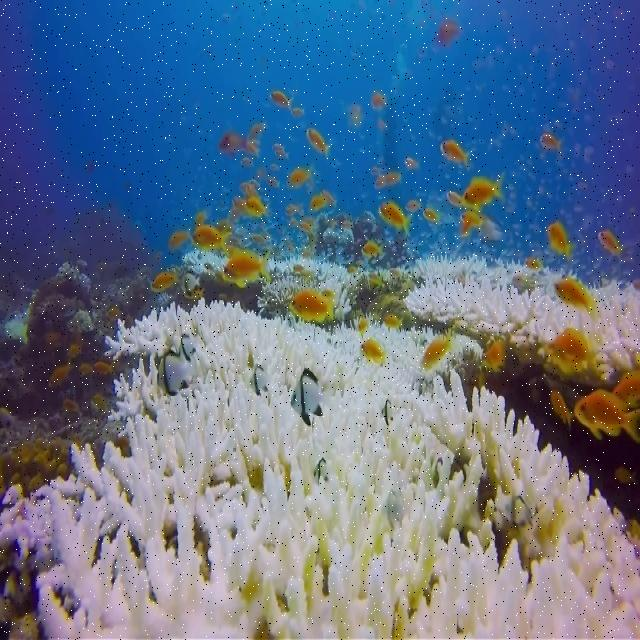fish: (576, 392, 639, 439), (290, 366, 328, 428), (546, 329, 598, 370), (222, 251, 272, 288), (461, 171, 507, 210), (156, 355, 197, 397), (554, 278, 595, 318), (288, 288, 335, 321), (418, 330, 454, 372), (192, 225, 232, 253), (380, 203, 412, 236)
reefs: (0, 298, 640, 640)
